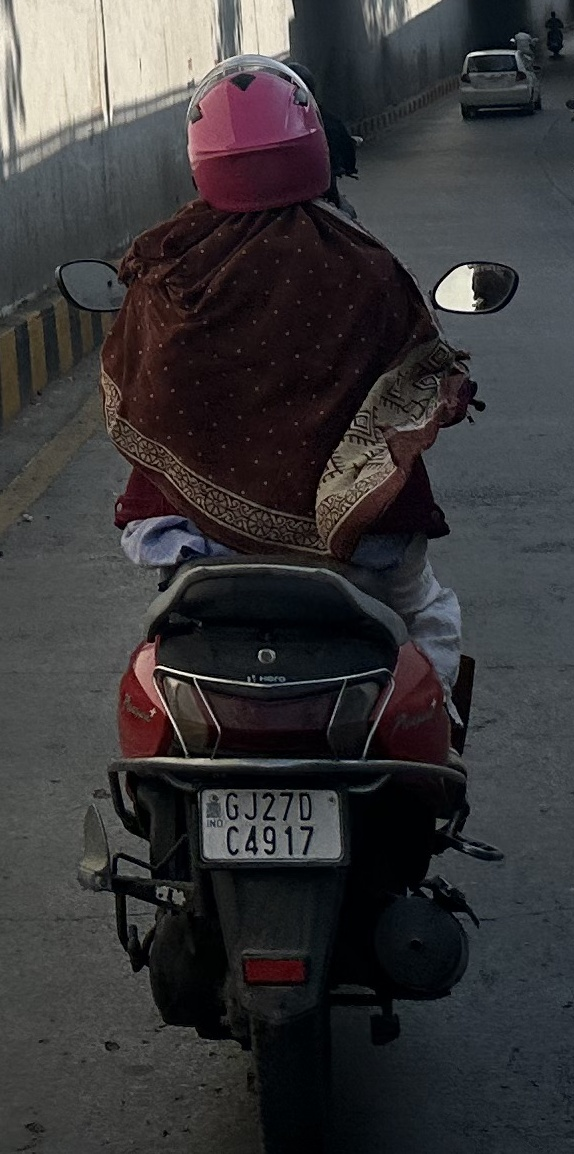BikeWithRider: (47, 44, 529, 1147)
Helmet: (165, 44, 341, 227)
